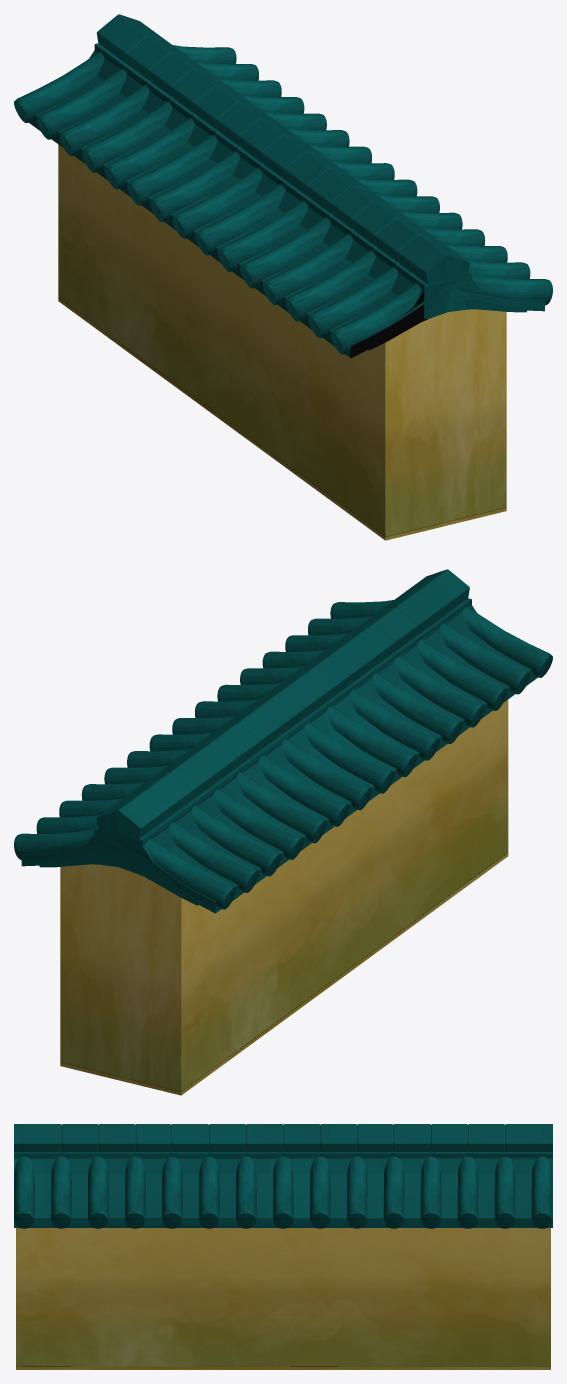
Rendered from SplitLargeWallRoof.glb.
3 renders of one model, top to bottom at view 1: azimuth 30°, elevation 25°; view 2: azimuth 150°, elevation 25°; view 3: azimuth 270°, elevation 25°, orthographic. The views are drawn at different scales.
Parts seen in each view (by area): view 1: LargeWallRoof, LargeWall; view 2: LargeWallRoof, LargeWall; view 3: LargeWall, LargeWallRoof.
Part boxes in pixels (x1,y1,x2,y2): LargeWallRoof: (14, 14, 552, 358); LargeWall: (58, 144, 506, 540); LargeWallRoof: (14, 569, 552, 913); LargeWall: (60, 699, 508, 1095); LargeWall: (16, 1228, 550, 1369); LargeWallRoof: (14, 1124, 552, 1228).
Size of the model in its own units: 3.57 by 4.28 by 9.43.
2 materials, 2 textured.
